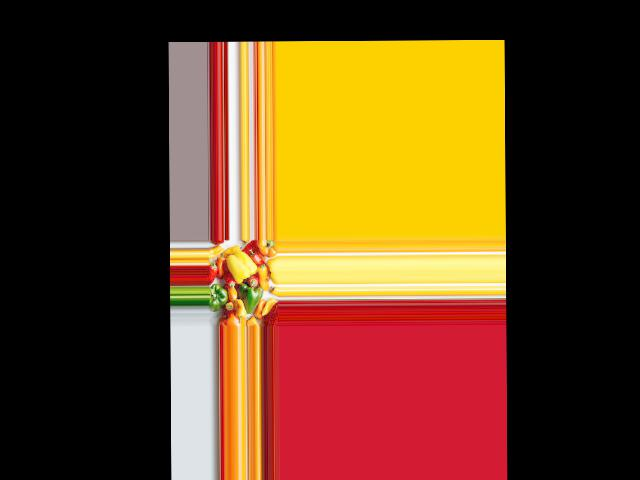bell_pepper: (207, 260, 220, 282)
